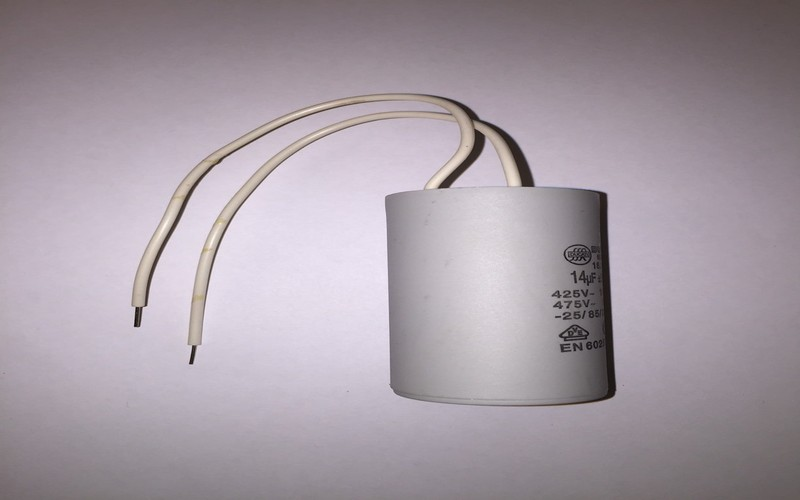Capacitor: (343, 117, 642, 434)
